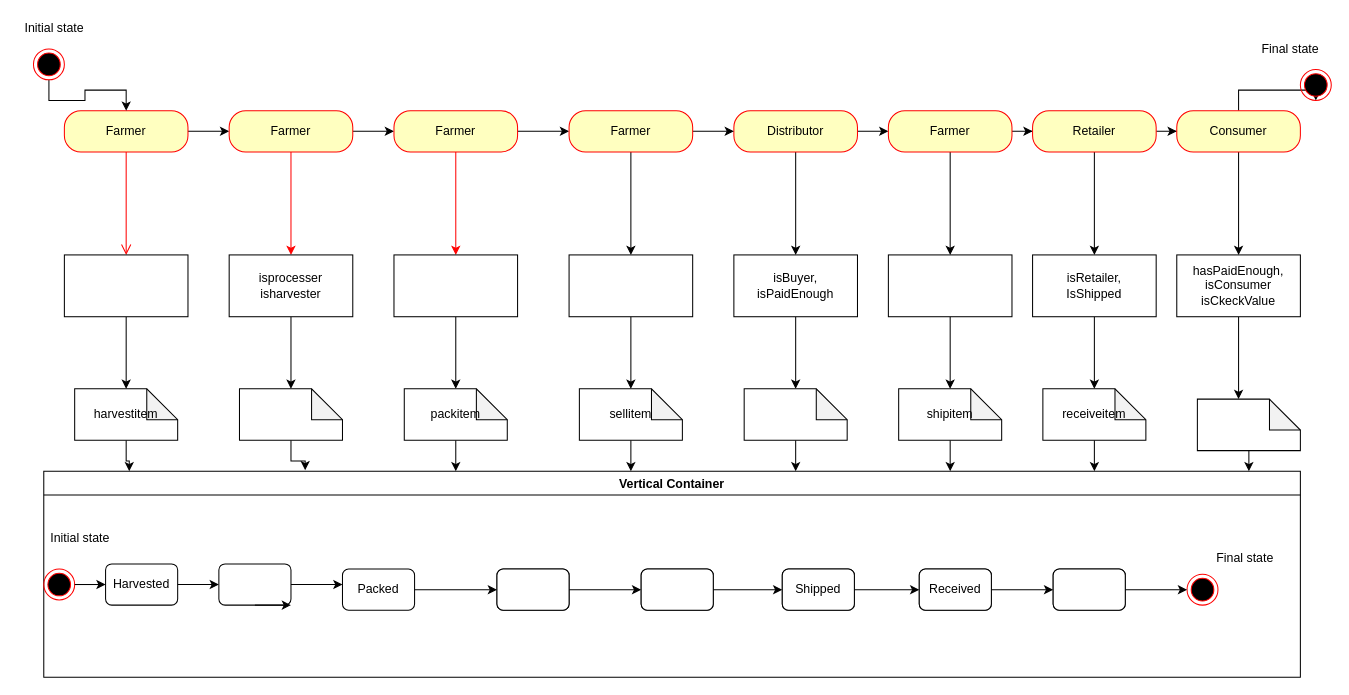
The diagram is 1349 pixels wide and 695 high, and some of its shapes have lost their labels. Here are the shapes that lost their labels. From the top down, the centre of each, then its label:
At (x=125, y=285): "isharvester".
At (x=455, y=285): "ispackeger isprocesser isharvester".
At (x=630, y=285): "isseller ispackeger isprocesser isharvester".
At (x=949, y=285): "isSold, isShipped".
At (x=290, y=414): "processitem".
At (x=795, y=414): "buyitem".
At (x=1248, y=424): "purchaseitem".
At (x=254, y=584): "Processed".
At (x=532, y=589): "ForSale".
At (x=676, y=589): "Sold".
At (x=1088, y=589): "Purchased".
